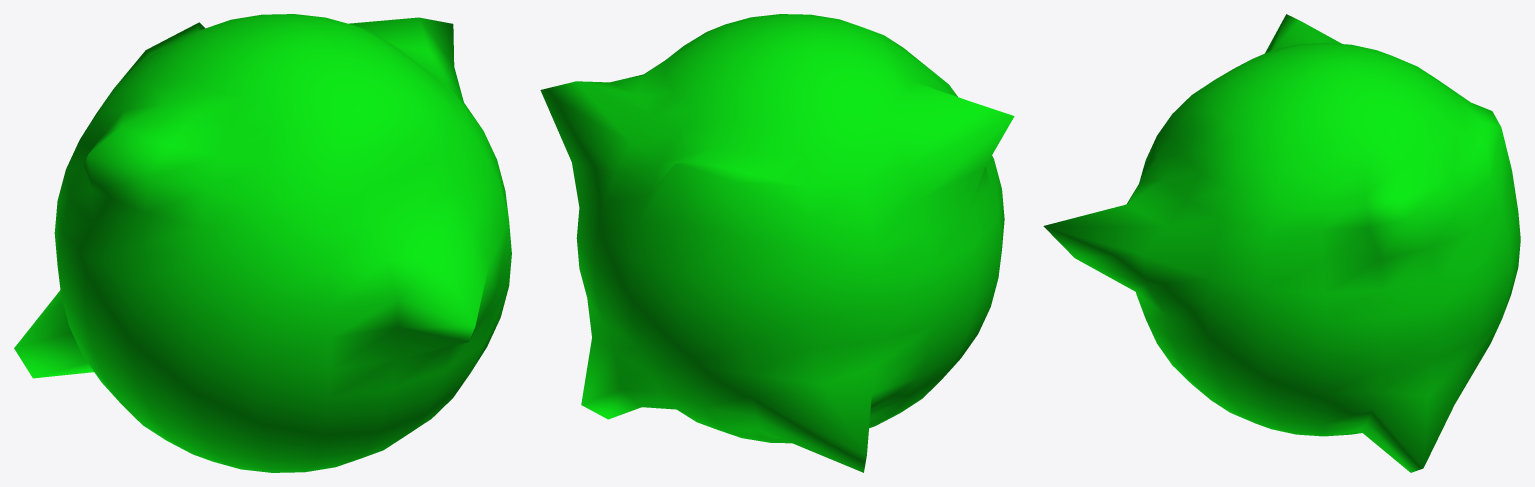
File: sphereOutput.gltf
3 views of the same model, side by side, from view 1: azimuth 30°, elevation 25°; view 2: azimuth 150°, elevation 25°; view 3: azimuth 270°, elevation 25° (orthographic). The views are drawn at different scales.
Parts seen in each view (by area): view 1: LOD2; view 2: LOD2; view 3: LOD2.
Boxes of the visible parts, left/top/right/bottom form: LOD2: left=14, top=14, right=511, bottom=472; LOD2: left=540, top=14, right=1014, bottom=472; LOD2: left=1043, top=14, right=1520, bottom=472.
Size of the model in its own units: 2.19 by 2 by 2.43.
